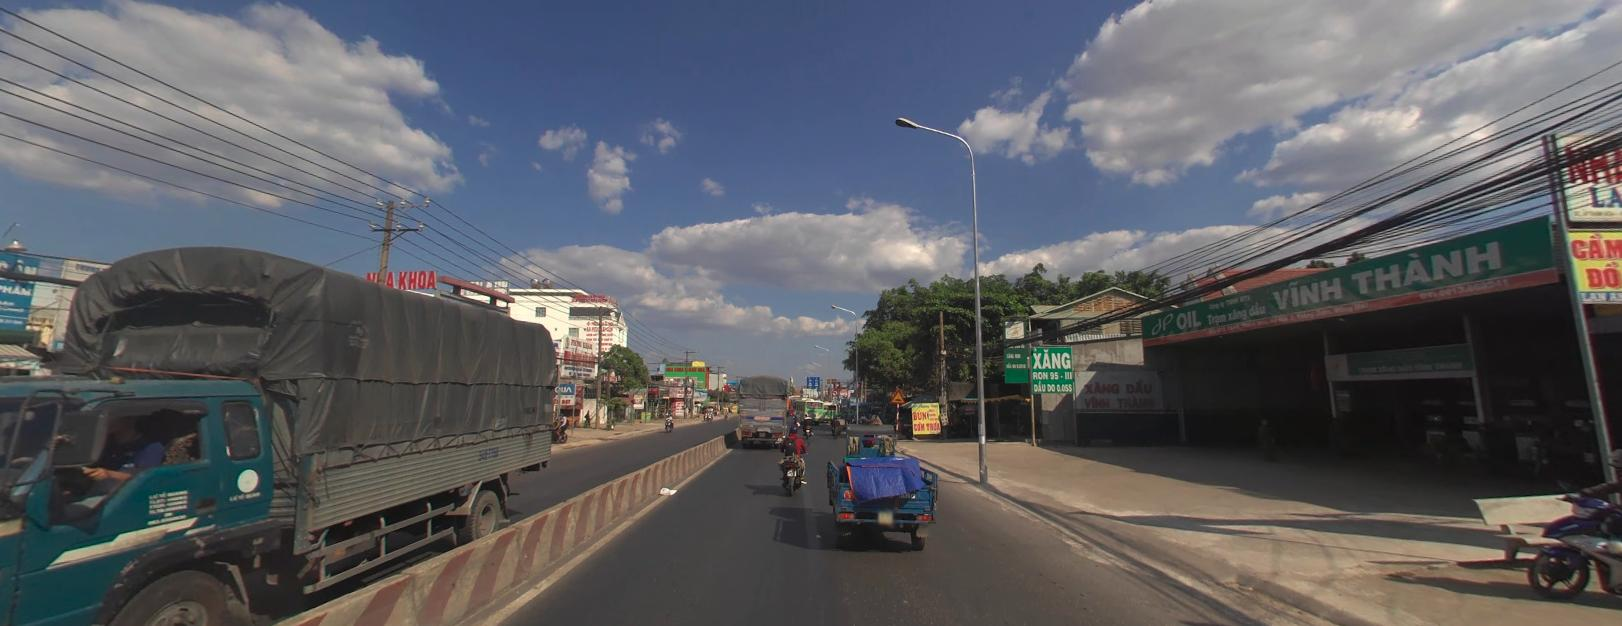Cam re: (832, 388, 838, 394)
Nguy hiem: (891, 389, 905, 403)
